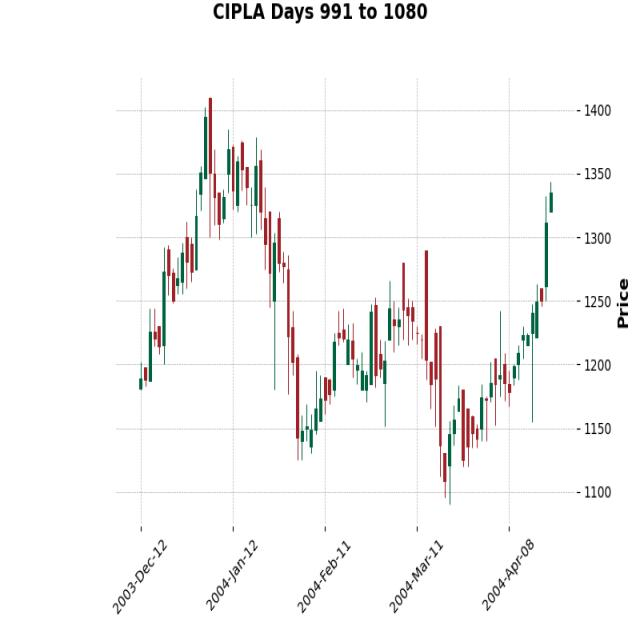Ascending Triangle: (267, 228, 433, 451)
